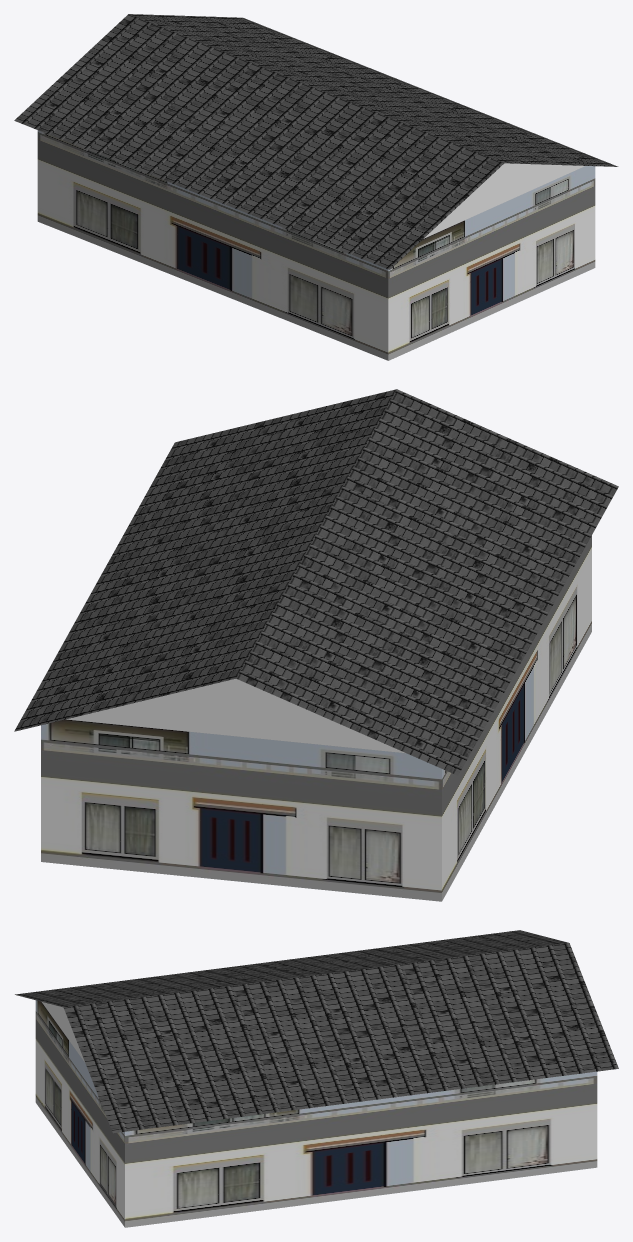
3 renders of one model, top to bottom at view 1: azimuth 30°, elevation 25°; view 2: azimuth 150°, elevation 25°; view 3: azimuth 270°, elevation 25°, orthographic. The views are drawn at different scales.
Visible parts, largest first — view 1: CityEngineMaterial_8_m, CityEngineMaterial_7_m, CityEngineMaterial_3_m; view 2: CityEngineMaterial_8_m, CityEngineMaterial_7_m, CityEngineMaterial_3_m; view 3: CityEngineMaterial_8_m, CityEngineMaterial_7_m, CityEngineMaterial_3_m.
Boxes of the visible parts, <box> form: CityEngineMaterial_8_m: <box>14,14,618,269</box>; CityEngineMaterial_7_m: <box>37,130,595,360</box>; CityEngineMaterial_3_m: <box>423,163,584,238</box>; CityEngineMaterial_8_m: <box>14,389,618,775</box>; CityEngineMaterial_7_m: <box>41,535,591,901</box>; CityEngineMaterial_3_m: <box>66,678,405,753</box>; CityEngineMaterial_8_m: <box>15,930,618,1133</box>; CityEngineMaterial_7_m: <box>35,1000,597,1227</box>; CityEngineMaterial_3_m: <box>42,1002,84,1062</box>.
Size of the model in its own units: 27.18 by 9.98 by 34.2.
